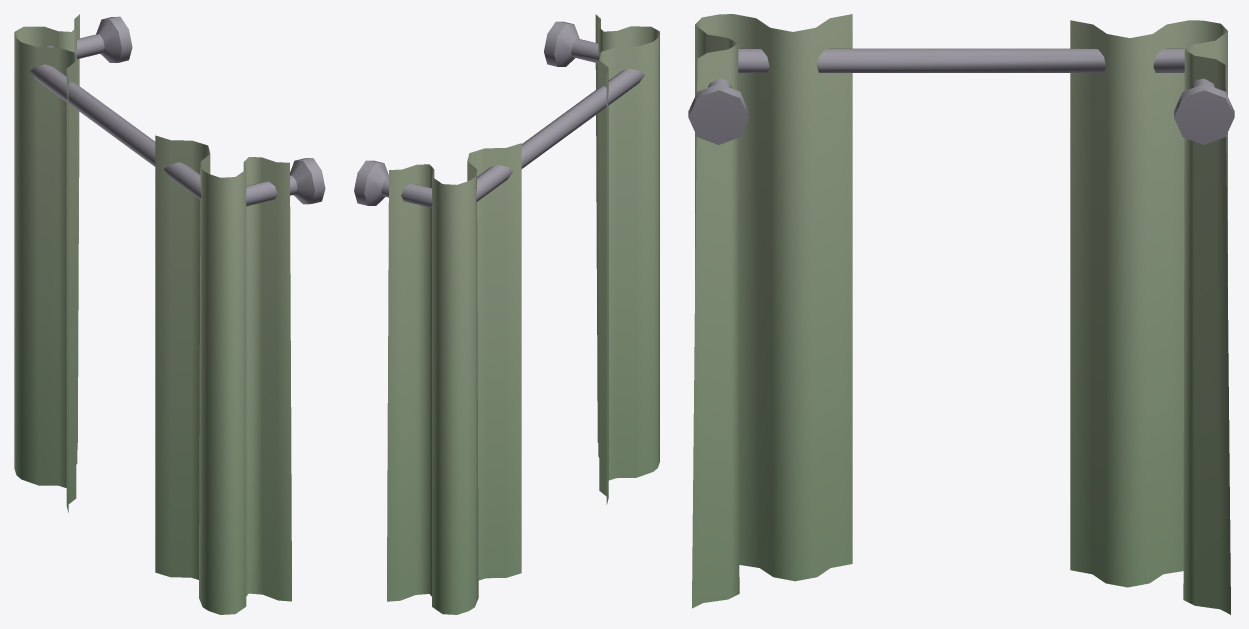
Rendered from curtain-narrow-short-open (%wall).glb.
3 views of the same model, side by side, from view 1: azimuth 30°, elevation 25°; view 2: azimuth 150°, elevation 25°; view 3: azimuth 270°, elevation 25° (orthographic). The views are drawn at different scales.
Parts seen in each view (by area): view 1: curtain-narrow-short-open (%wall); view 2: curtain-narrow-short-open (%wall); view 3: curtain-narrow-short-open (%wall).
Boxes of the visible parts, left/top/right/bottom form: curtain-narrow-short-open (%wall): left=14, top=14, right=325, bottom=614; curtain-narrow-short-open (%wall): left=354, top=14, right=659, bottom=614; curtain-narrow-short-open (%wall): left=688, top=14, right=1234, bottom=614.
Size of the model in its own units: 0.2513 by 1.01 by 0.9.
